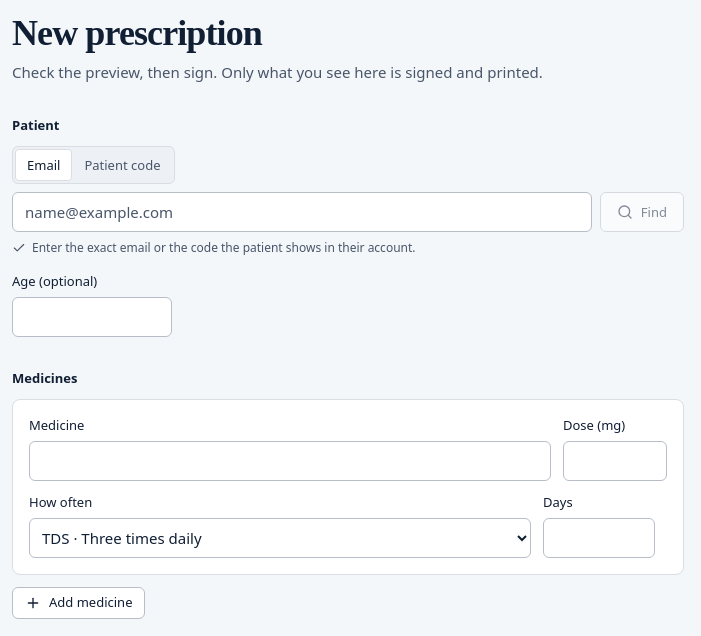
Scenario: NewPrescription › finds a patient by exact email and shows the match
Type "ravi@example.test" into the field named "Patient email".
click(302, 212); type("ravi@example.test")  # box [12, 192, 592, 232]
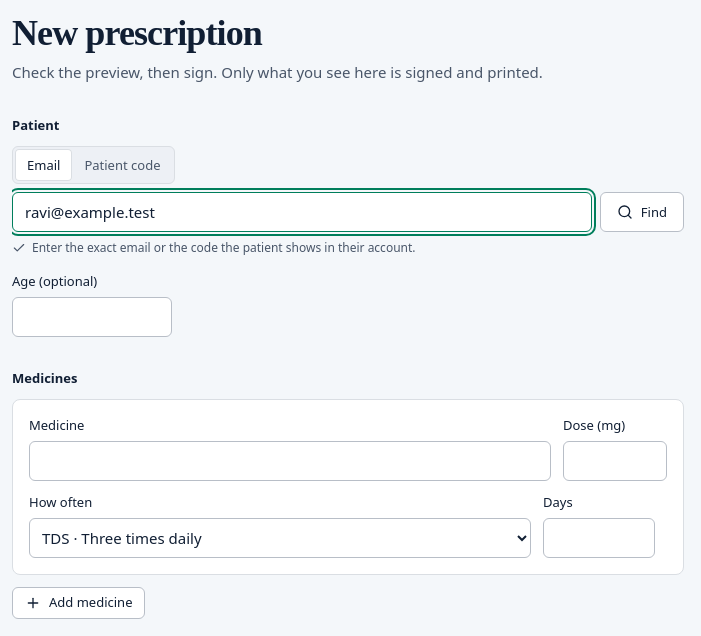
Click the button "Find".
click(642, 212)  # box [600, 192, 684, 232]
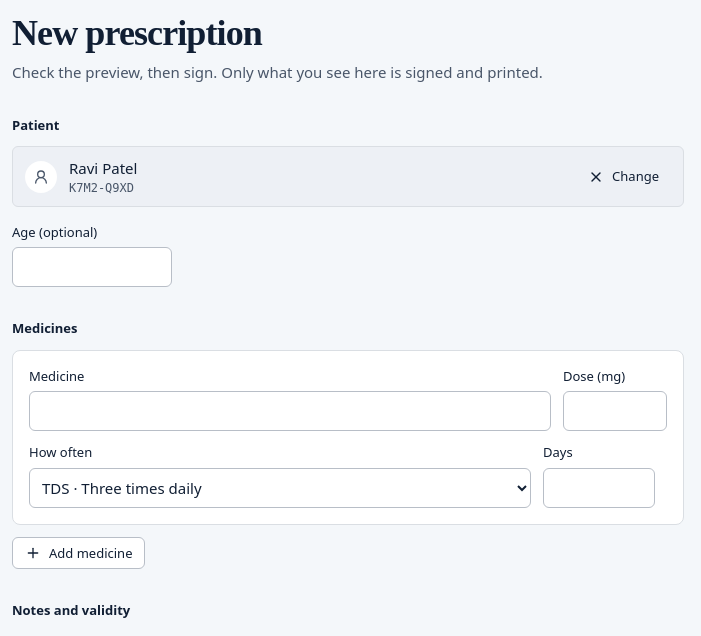
Result: the text "K7M2-Q9XD" is shown at [69, 180, 137, 196]
